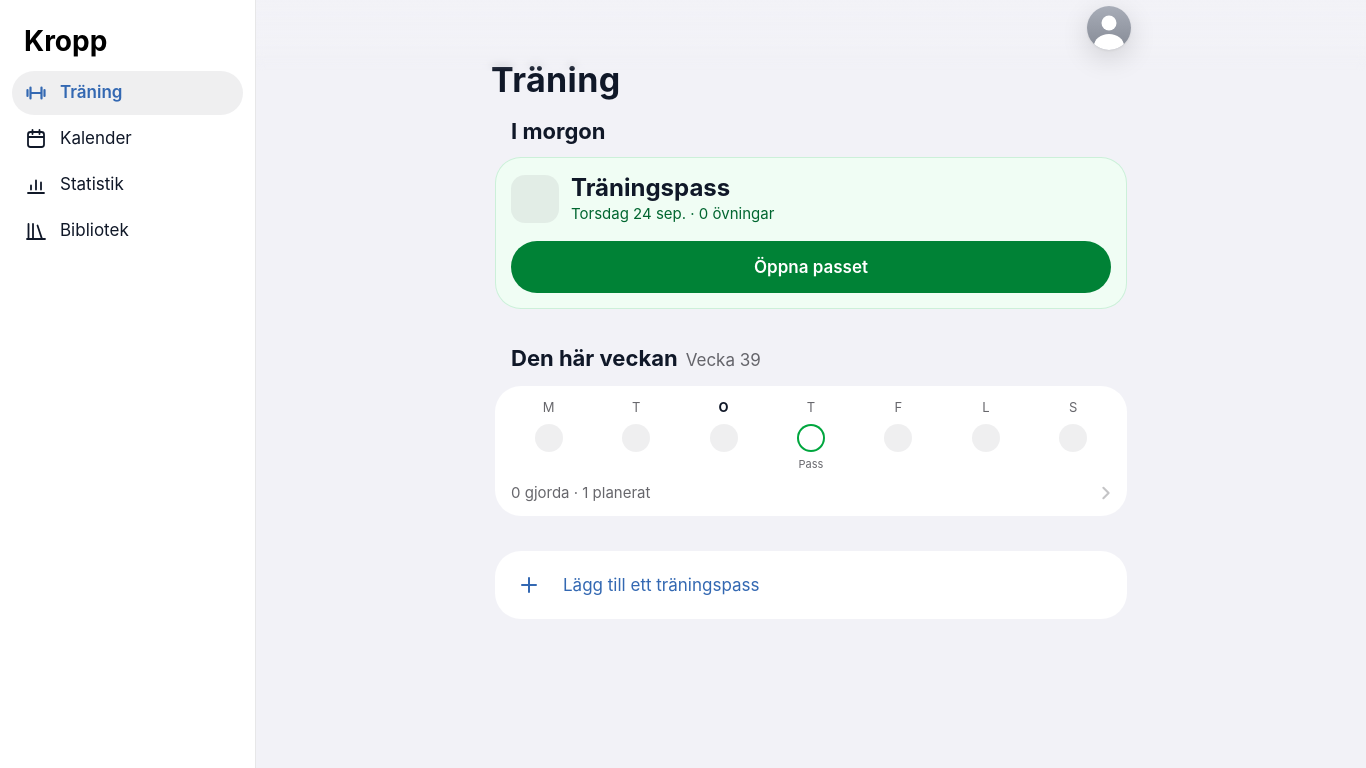
it: shows an existing plan instead of a suggestion
Expected: the element with test id "next" is shown, [495, 117, 1127, 309]
Step 1. Click the button with test id "open-planning" → x=661, y=585, box [495, 551, 1127, 619]
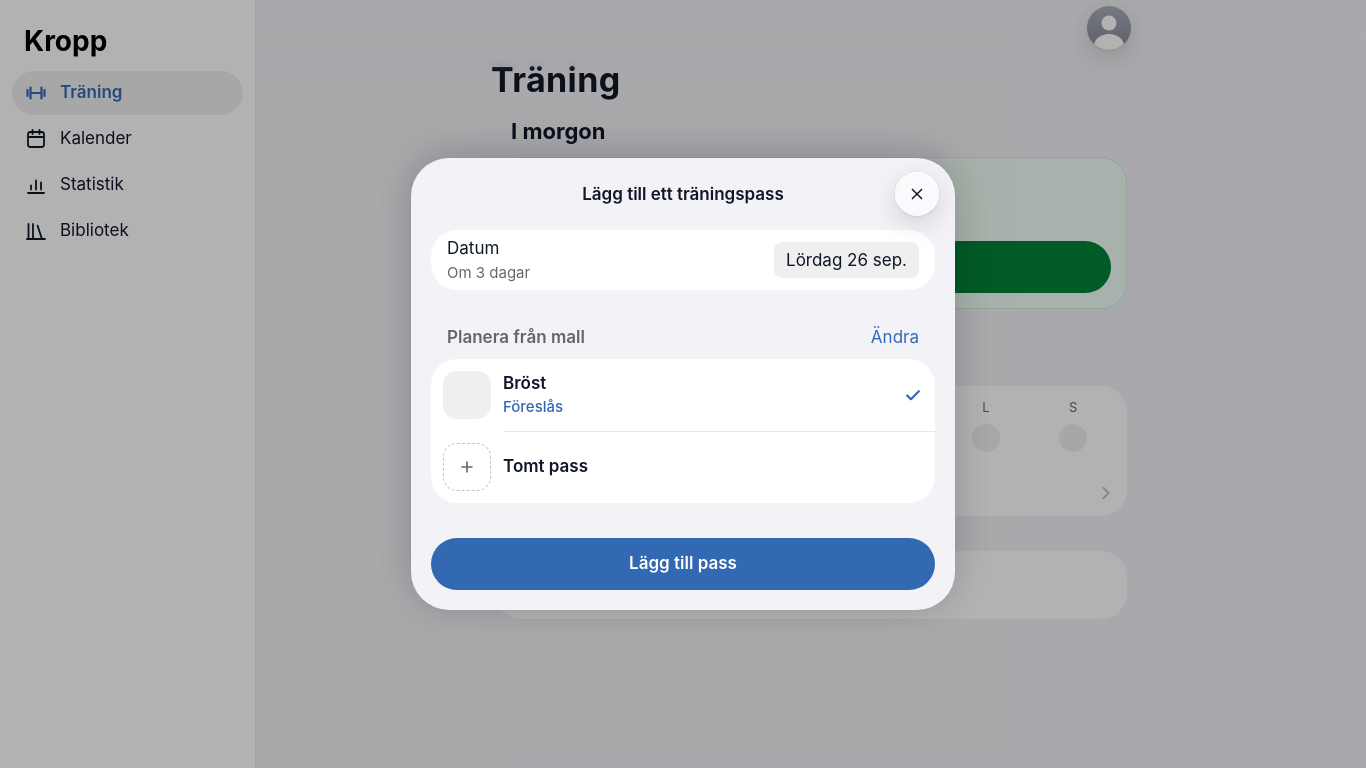
Expected: the element with test id "plan-card" is shown, [431, 230, 935, 590]
Step 2. Press Escape
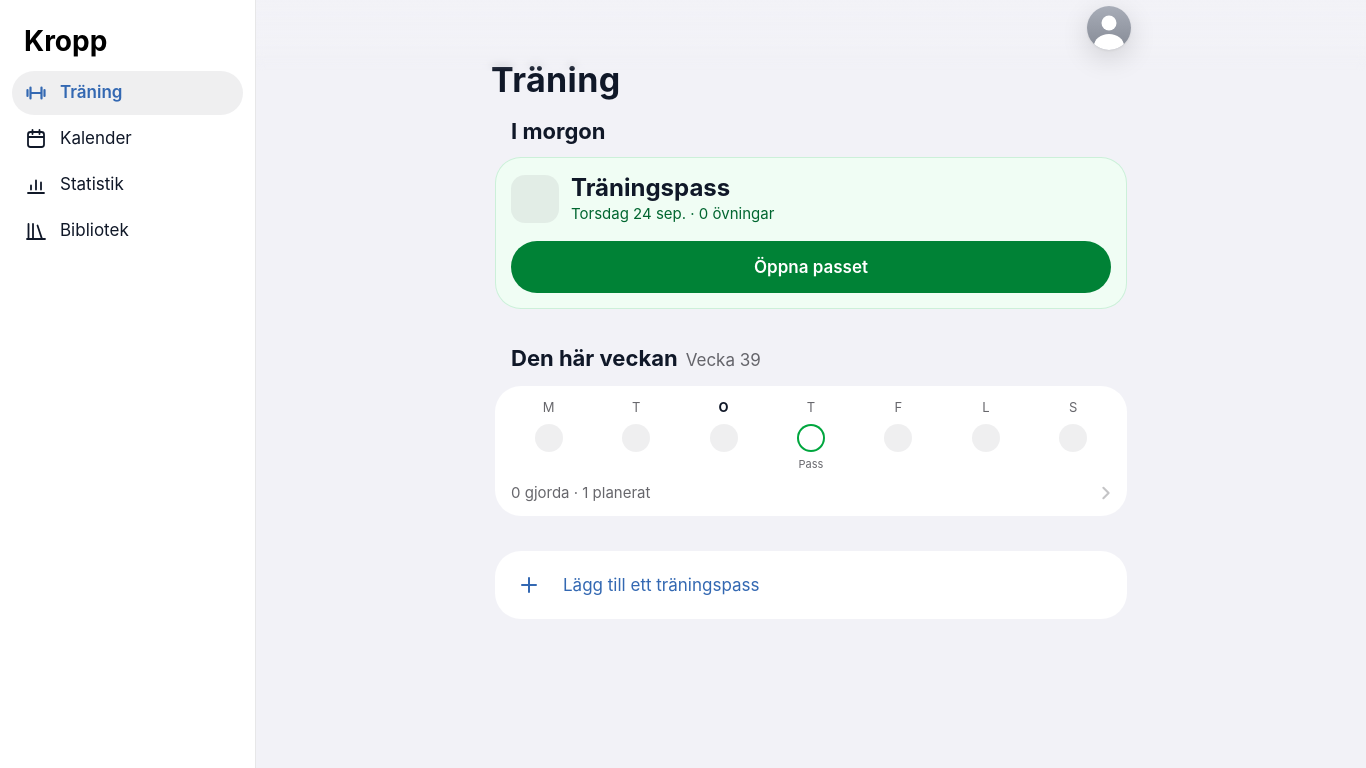
Expected: the dialog with test id "planning-sheet" is gone
